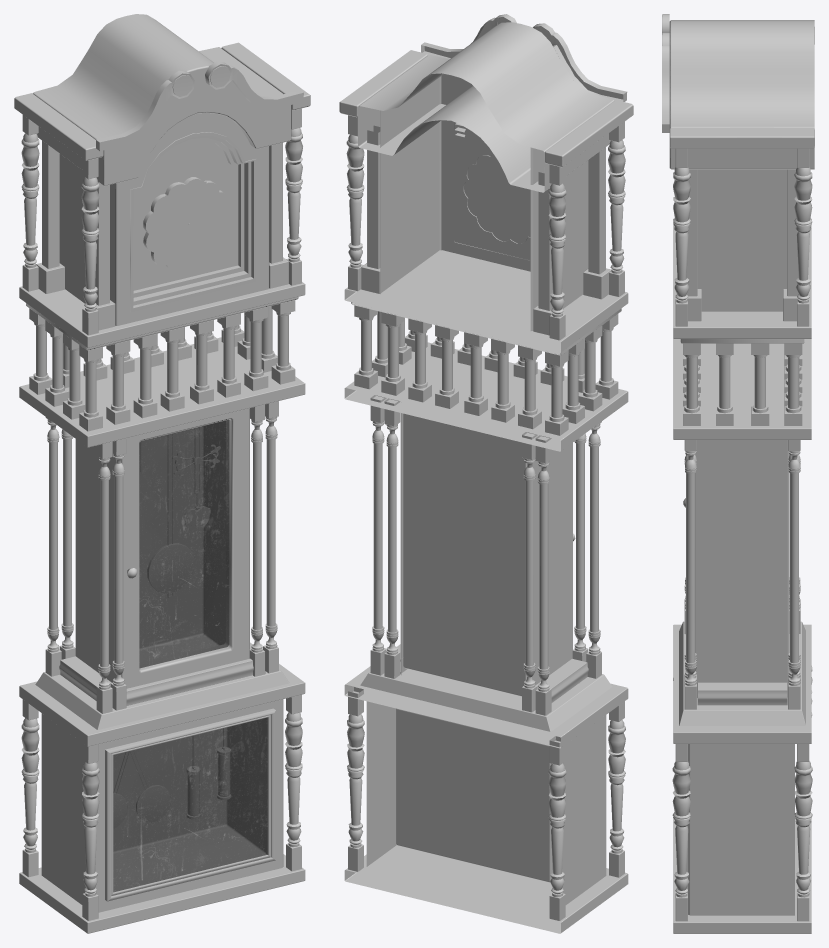
3 views of the same model, side by side, from view 1: azimuth 30°, elevation 25°; view 2: azimuth 150°, elevation 25°; view 3: azimuth 270°, elevation 25° (orthographic). The views are drawn at different scales.
Parts seen in each view (by area): view 1: low_middle_base1.002, glass, low_circle.001, low_circle.003, low_circle.004, low_cord_bot.001, low_cord_bot.002; view 2: low_middle_base1.002; view 3: low_middle_base1.002.
Boxes of the visible parts, x1,y1,x2,y2 form: low_middle_base1.002: [14, 14, 310, 933]; glass: [113, 419, 267, 891]; low_circle.001: [147, 433, 194, 597]; low_circle.003: [130, 750, 170, 822]; low_circle.004: [183, 427, 210, 530]; low_cord_bot.001: [187, 735, 200, 819]; low_cord_bot.002: [217, 728, 230, 799]; low_middle_base1.002: [339, 14, 633, 933]; low_middle_base1.002: [662, 14, 814, 933].
Bounding box in the file's own units: 0.6239 × 2.22 × 0.3601.
